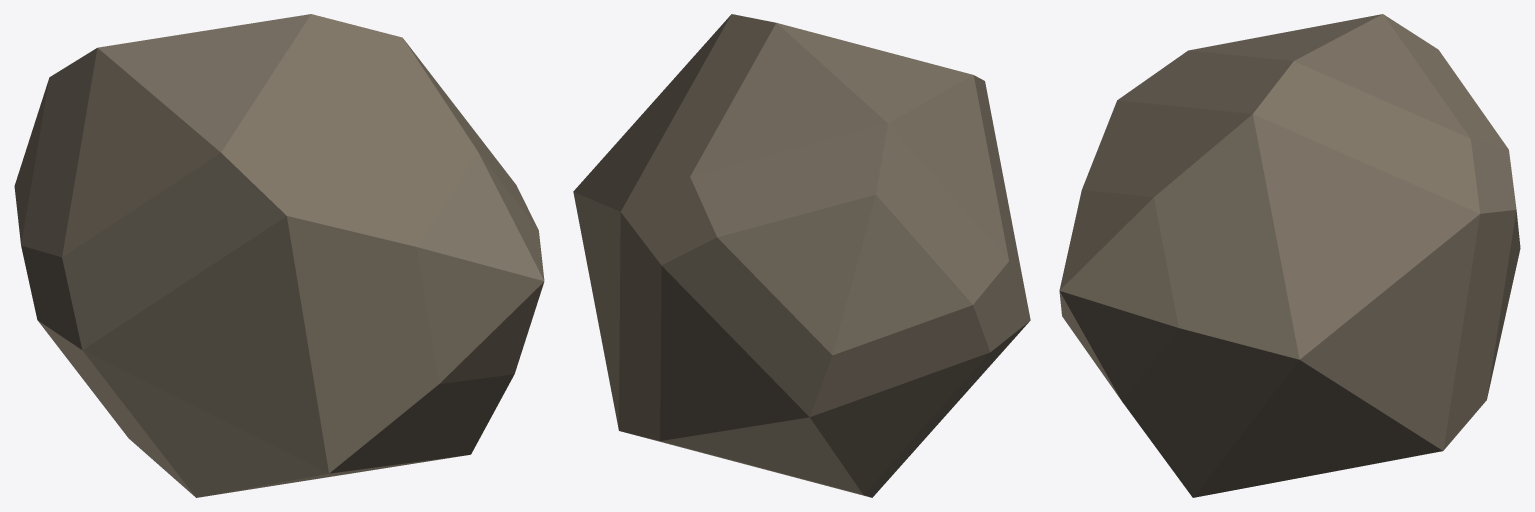
Rendered from Rock_1.fbx.
3 renders of one model, left to right at view 1: azimuth 30°, elevation 25°; view 2: azimuth 150°, elevation 25°; view 3: azimuth 270°, elevation 25°, orthographic. The views are drawn at different scales.
Visible parts, largest first — view 1: Icosphere; view 2: Icosphere; view 3: Icosphere.
Part boxes in pixels (x1,y1,x2,y2): Icosphere: (14,14,544,497); Icosphere: (573,14,1030,497); Icosphere: (1059,14,1520,497).
Bounding box in the file's own units: 199 × 193 × 190.
